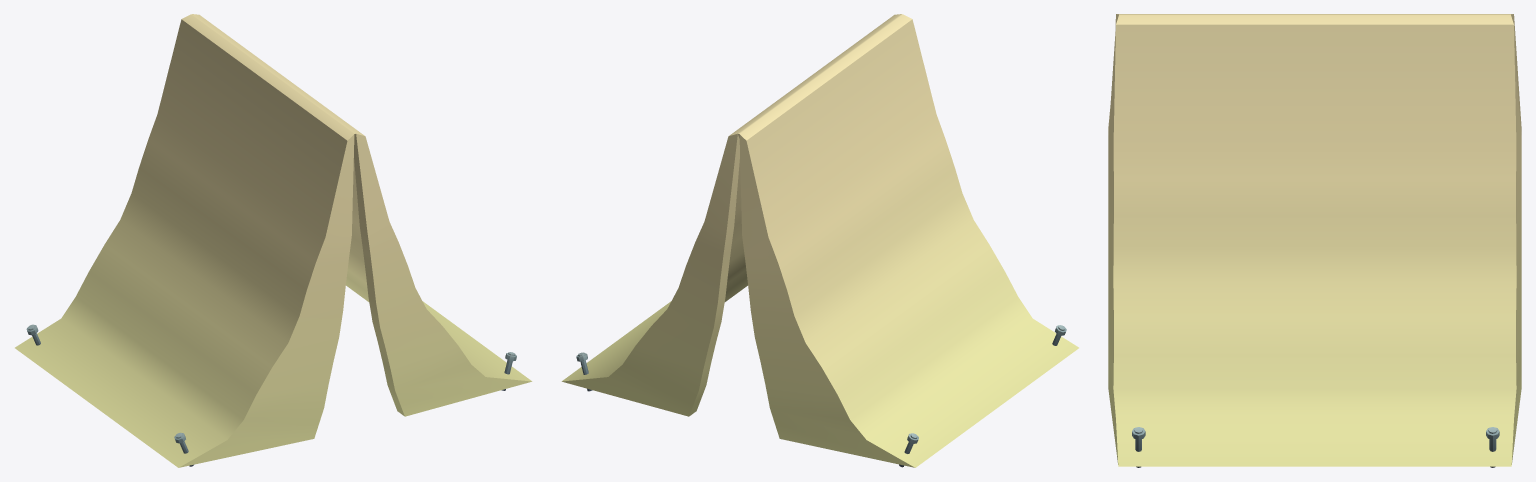
Rendered from Camp.fbx.
3 views of the same model, side by side, from view 1: azimuth 30°, elevation 25°; view 2: azimuth 150°, elevation 25°; view 3: azimuth 270°, elevation 25° (orthographic). The views are drawn at different scales.
Parts seen in each view (by area): view 1: Camp; view 2: Camp; view 3: Camp.
Boxes of the visible parts, x1,y1,x2,y2 form: Camp: (15, 14, 532, 467); Camp: (561, 14, 1078, 467); Camp: (1108, 14, 1521, 467).
Bounding box in the file's own units: 0.9759 × 0.7919 × 0.8222.
